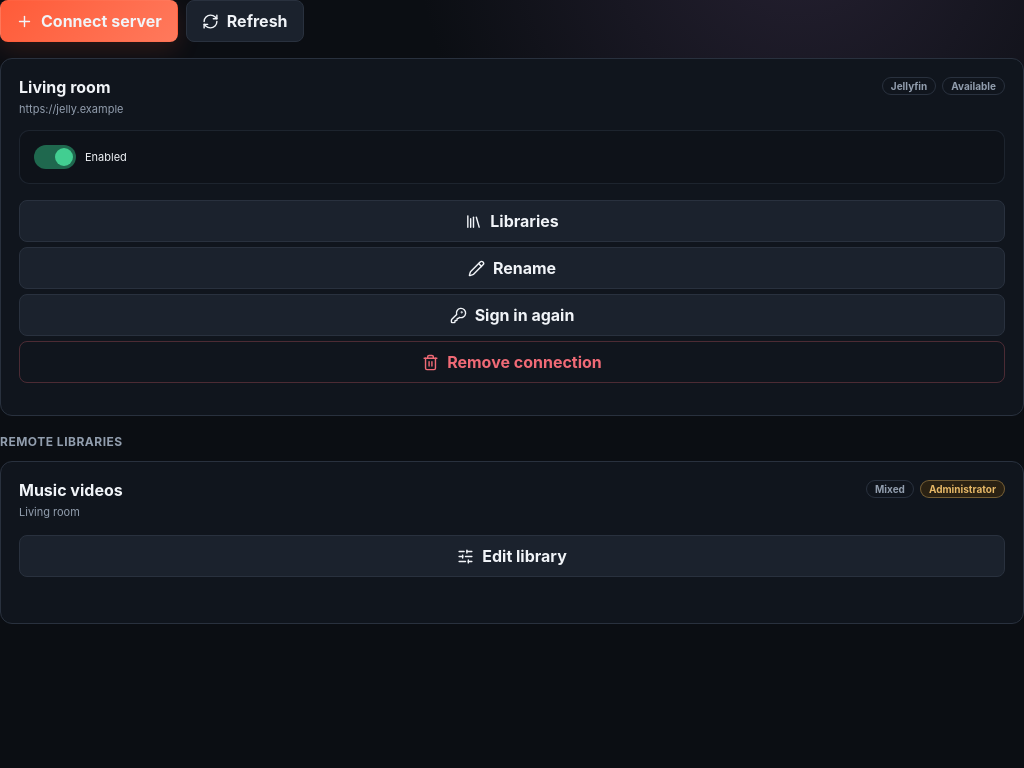
it: RemoteLibraryDialog › keeps the shared concepts and leaves out the filesystem-only controls
Click the button "Edit library". click: click(512, 556)
box: [19,535,1005,577]
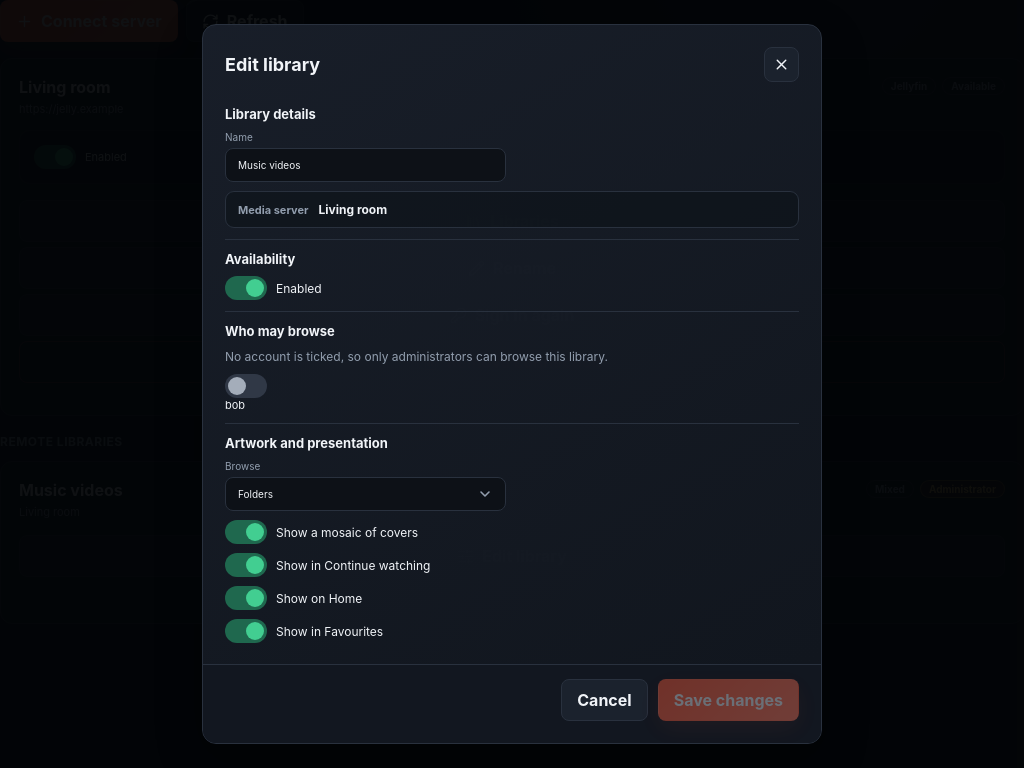
Expected: the element with class "library-edit-card" is shown, [202,24,822,744]
Expected: the dropdown named "Browse" is shown, [225,477,506,511]
